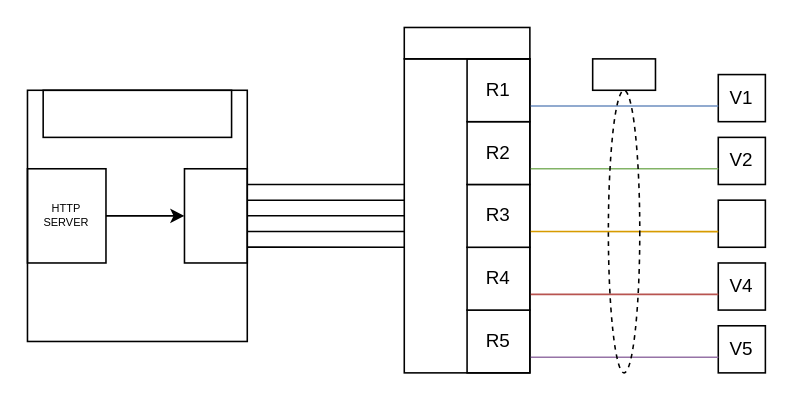
The diagram is 793 pixels wide and 400 high, and some of its shapes have lost their labels. Here are the shapes that lost their labels. From the top down, the box of each, then its label:
(403, 26, 530, 59): RELAY MODULE
(591, 57, 655, 90): 24VAC
(42, 89, 232, 137): RPI
(183, 167, 247, 263): GPIO
(717, 199, 765, 247): V3
